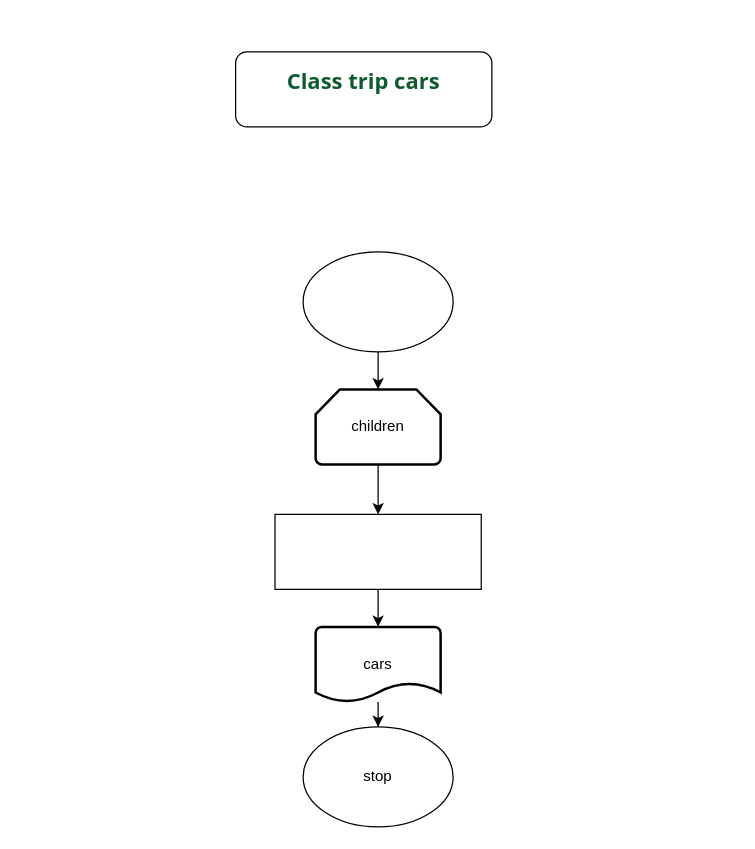
The diagram is 755 pixels wide and 849 high, and some of its shapes have lost their labels. The centre of each missing label's shape, as x and y in pixels:
"cars = children / 5" goes at pixel 377 551.
"start" goes at pixel 377 301.
